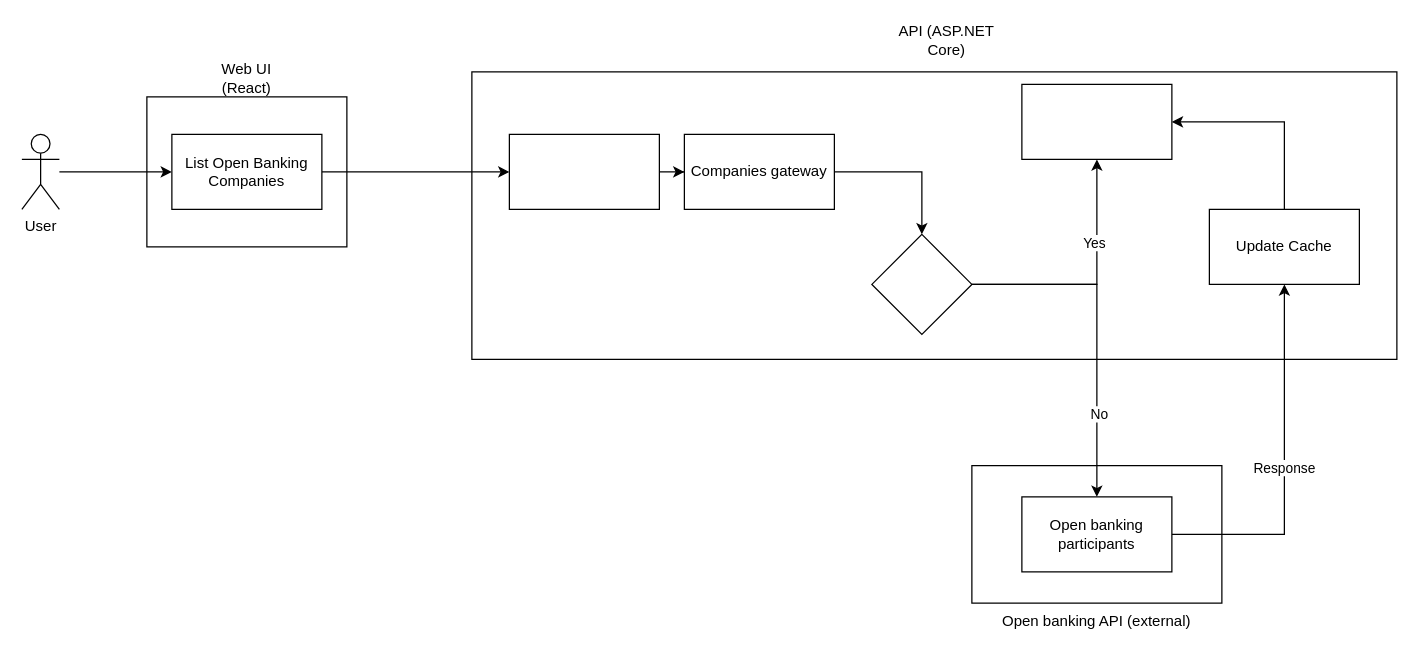
Image size: 1419x661. Some labels were removed from this diagram. The box of each missing label's shape, as (x1, y1, x2, y2) in pixels:
Companies participants cache: (1021, 83, 1172, 159)
Is cache valid?: (871, 233, 972, 334)
List companies: (508, 133, 659, 209)
